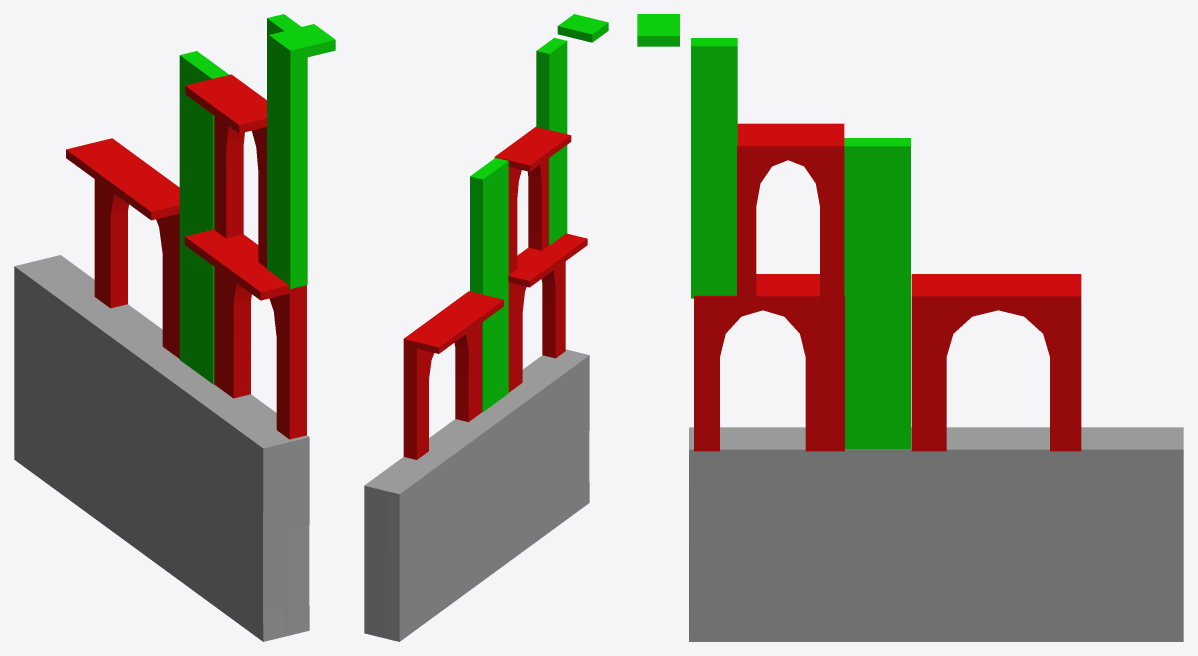
Rendered from zip_half1.fbx.
The picture shows the model from 3 angles, left to right: view 1: azimuth 30°, elevation 25°; view 2: azimuth 150°, elevation 25°; view 3: azimuth 270°, elevation 25°; orthographic projection. The views are drawn at different scales.
Parts seen in each view (by area): view 1: polySurface2160; view 2: polySurface2160; view 3: polySurface2160.
Boxes of the visible parts, <box> form: polySurface2160: <box>14,14,335,641</box>; polySurface2160: <box>364,14,608,641</box>; polySurface2160: <box>637,14,1183,641</box>.
Size of the model in its own units: 37.92 by 476 by 389.
